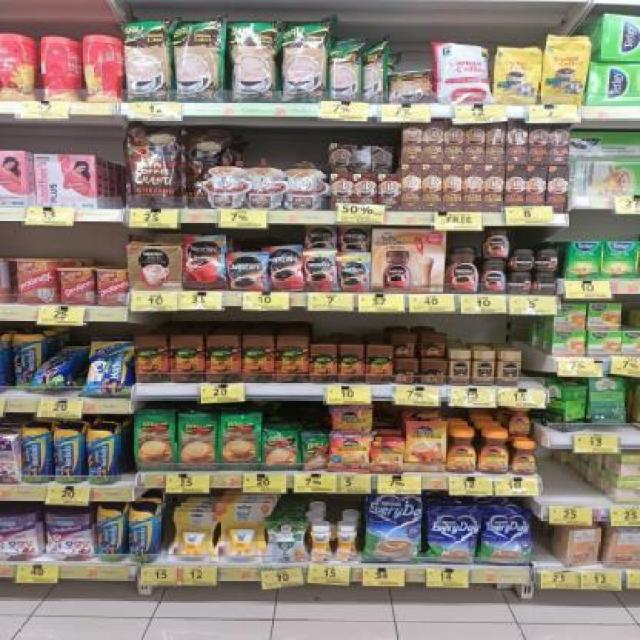Coffee: (184, 236, 228, 290), (408, 422, 447, 472), (445, 246, 478, 294), (227, 254, 268, 291), (268, 248, 304, 290), (330, 434, 370, 470), (304, 252, 338, 292), (447, 430, 476, 472), (478, 431, 507, 472), (338, 254, 370, 291), (334, 405, 371, 433), (511, 442, 537, 475), (480, 260, 506, 292), (497, 350, 520, 385), (474, 350, 495, 385), (484, 229, 510, 257), (450, 350, 470, 385), (510, 407, 532, 435), (512, 248, 533, 270), (535, 274, 557, 294), (508, 275, 530, 293), (536, 252, 556, 270)
